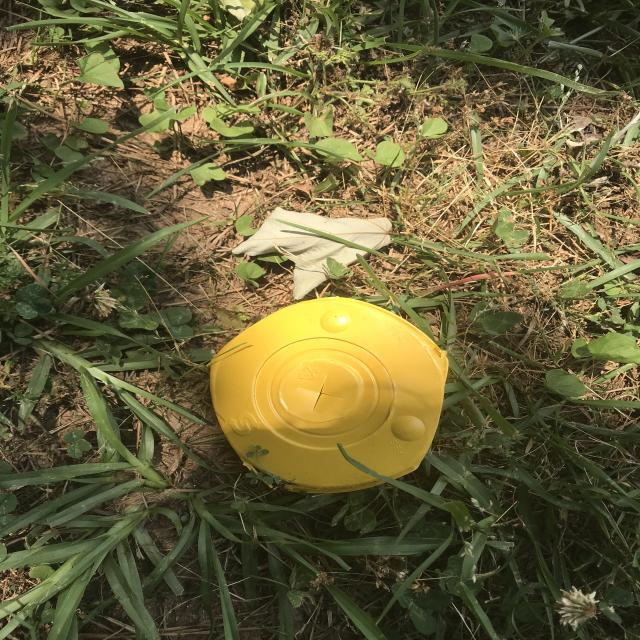litter: (200, 298, 452, 487)
